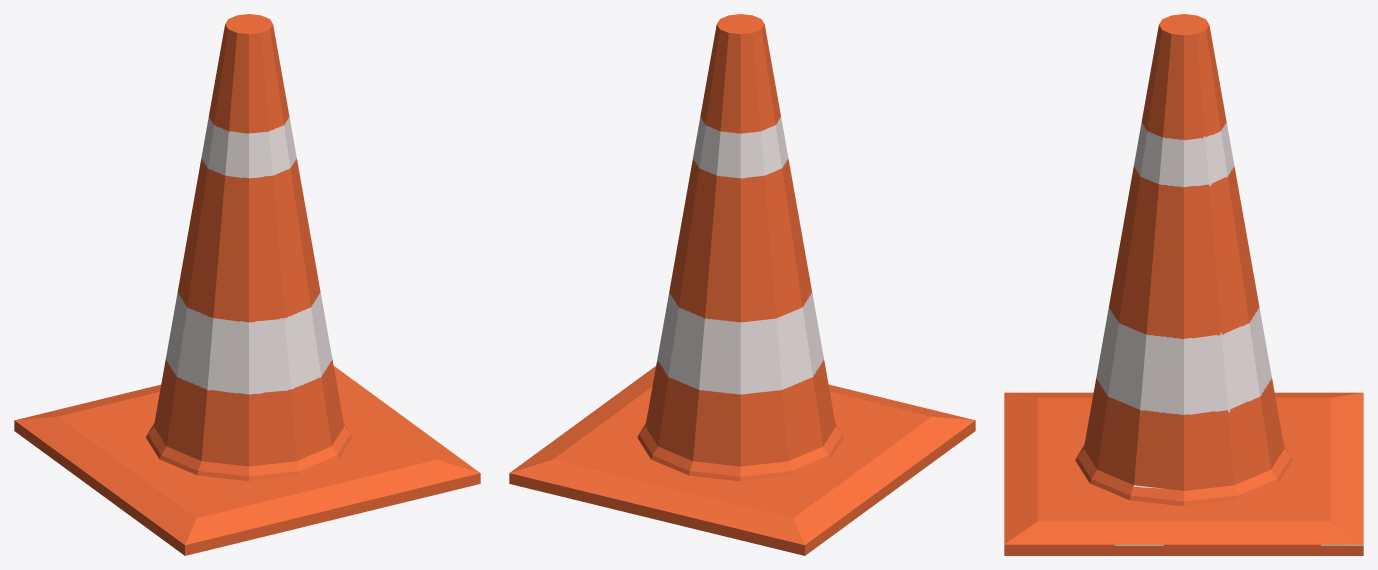
File: RoadConus.fbx
The picture shows the model from 3 angles, left to right: view 1: azimuth 30°, elevation 25°; view 2: azimuth 150°, elevation 25°; view 3: azimuth 270°, elevation 25°; orthographic projection. The views are drawn at different scales.
Parts seen in each view (by area): view 1: Plane.003; view 2: Plane.003; view 3: Plane.003.
Part boxes in pixels (<box>): Plane.003: <box>14,14,480,555</box>; Plane.003: <box>509,14,975,555</box>; Plane.003: <box>1004,14,1363,555</box>.
Bounding box in the file's own units: 121 × 170 × 121.
Materials: 1 (1 with a texture image).
